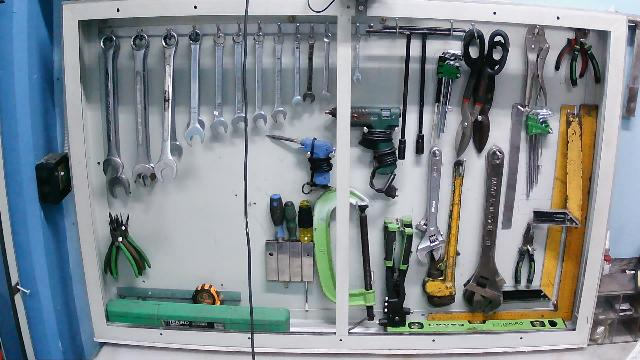kunci_l: (427, 45, 465, 149)
